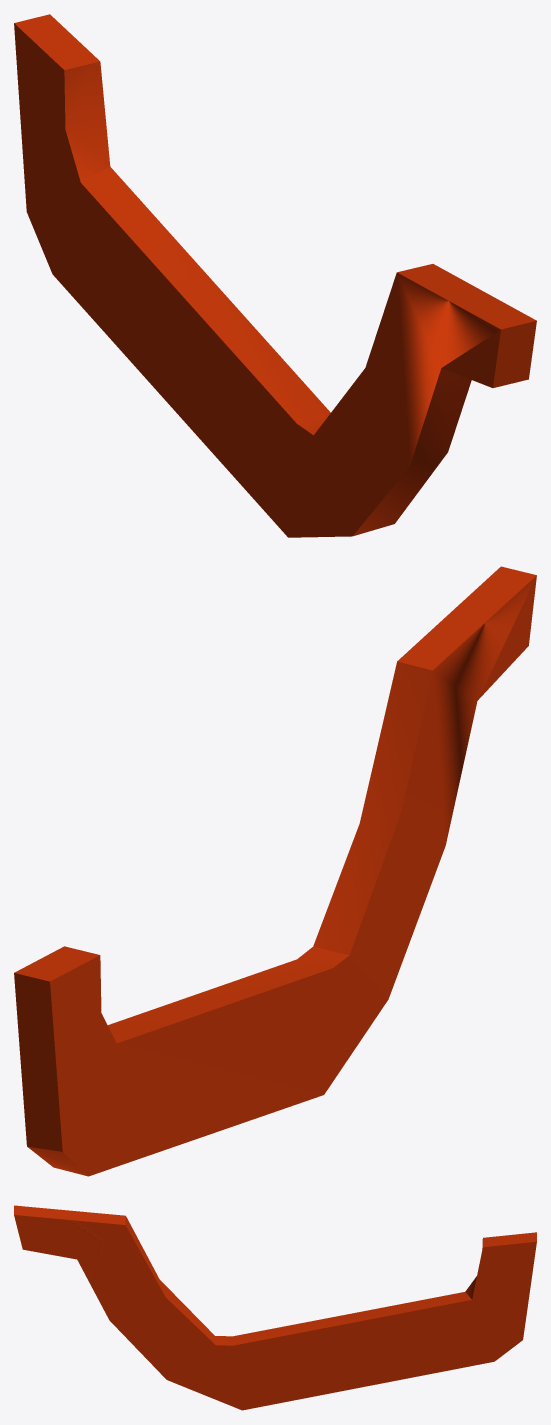
The model's file is original-4.obj.
3 views of the same model, one above another, from view 1: azimuth 30°, elevation 25°; view 2: azimuth 150°, elevation 25°; view 3: azimuth 270°, elevation 25° (orthographic). The views are drawn at different scales.
Parts seen in each view (by area): view 1: mesh4/mesh4-geometry#mesh4-geometry; view 2: mesh4/mesh4-geometry#mesh4-geometry; view 3: mesh4/mesh4-geometry#mesh4-geometry.
Boxes of the visible parts, x1=… form: mesh4/mesh4-geometry#mesh4-geometry: x1=14, y1=14, x2=536, y2=537; mesh4/mesh4-geometry#mesh4-geometry: x1=14, y1=566, x2=536, y2=1176; mesh4/mesh4-geometry#mesh4-geometry: x1=14, y1=1205, x2=536, y2=1410.
Bounding box in the file's own units: 0.0188 × 0.1806 × 0.4376.
